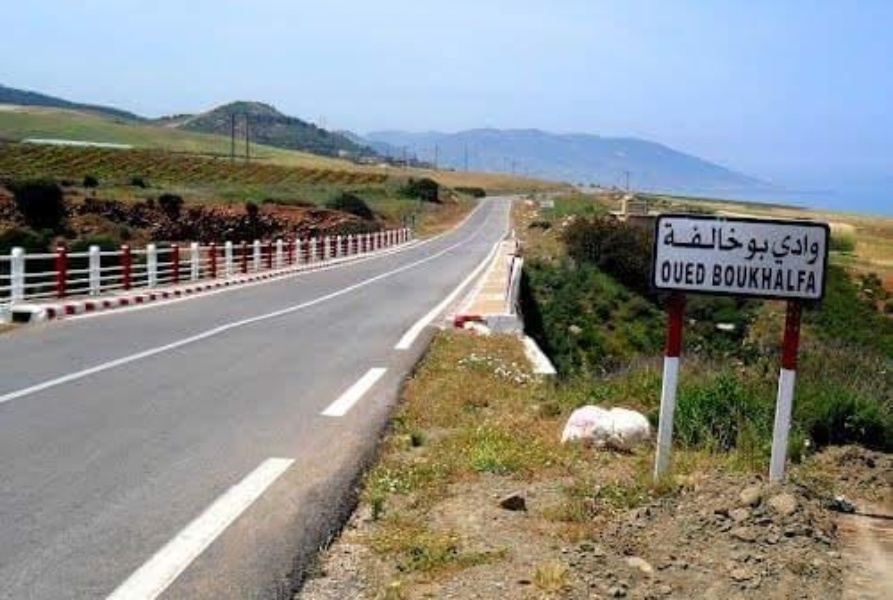text: (785, 233, 800, 265), (801, 233, 816, 265), (673, 222, 688, 254), (689, 222, 704, 254), (705, 222, 720, 254), (721, 222, 736, 254), (721, 263, 736, 295), (737, 263, 752, 295), (753, 263, 768, 295), (769, 263, 784, 295), (785, 263, 800, 295), (801, 263, 816, 295), (673, 259, 688, 286), (689, 259, 704, 286), (753, 236, 768, 263), (772, 233, 784, 265), (661, 259, 672, 286), (663, 222, 672, 254), (711, 263, 720, 295), (737, 222, 745, 254), (817, 233, 822, 265), (747, 236, 752, 263), (705, 259, 708, 286), (817, 263, 818, 295), (769, 236, 770, 263)
